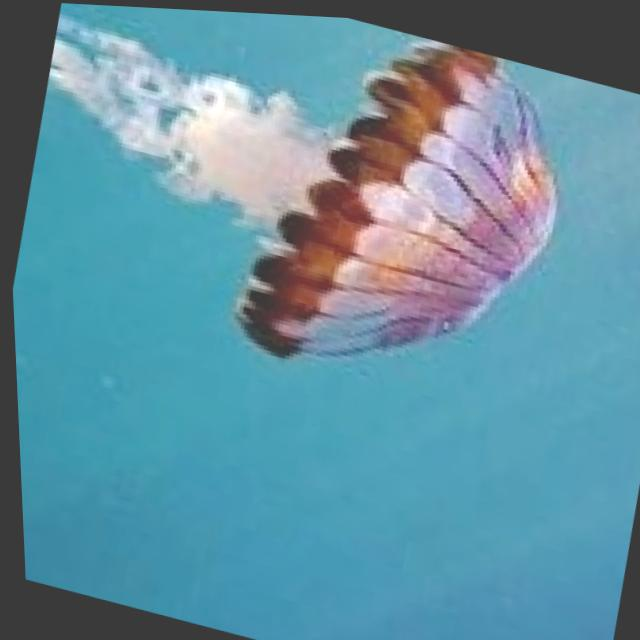Jellyfish: (0, 0, 597, 422)
